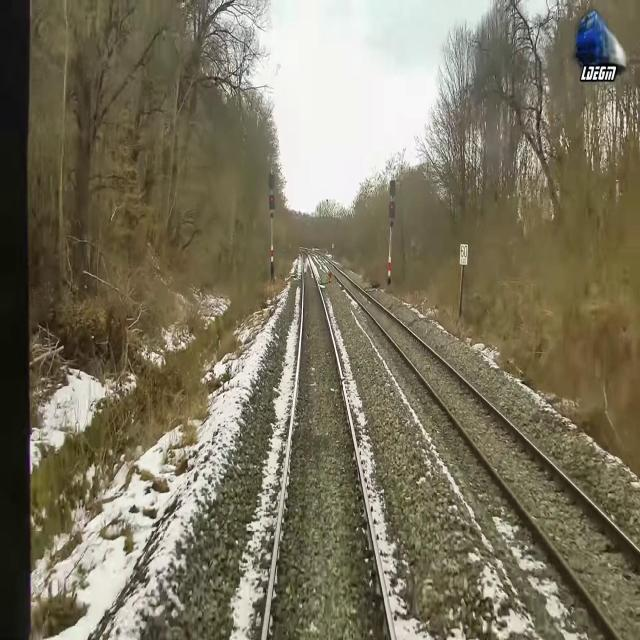rail-track: (318, 254, 640, 639), (266, 252, 391, 639)
